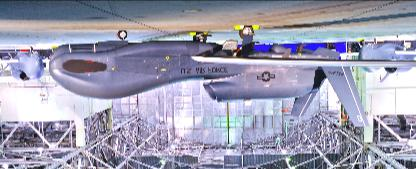P3: (49, 26, 416, 127), (339, 38, 415, 82), (0, 45, 55, 91)
